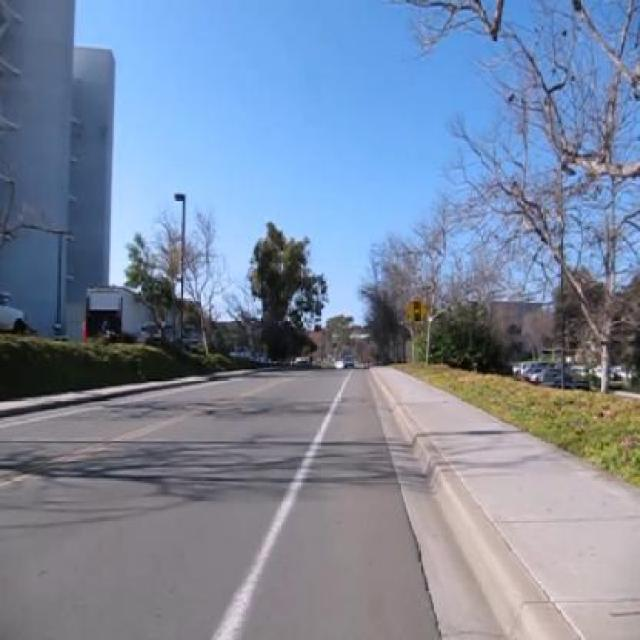signalAhead: (404, 294, 428, 327)
